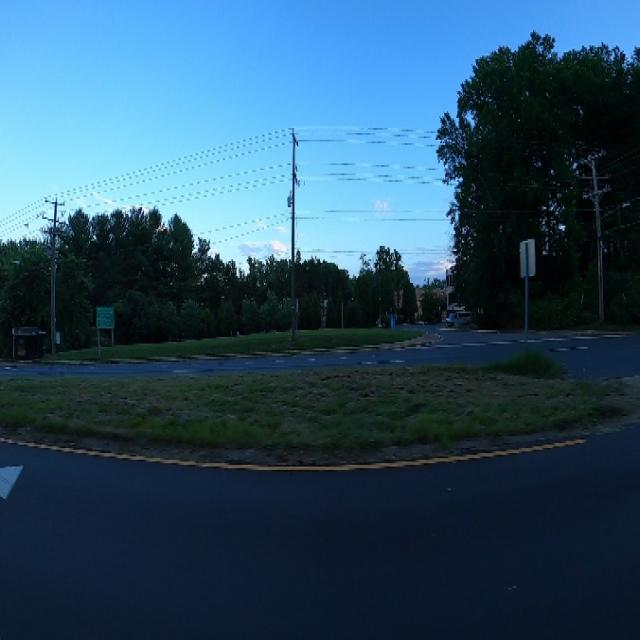cars: (443, 306, 474, 332)
